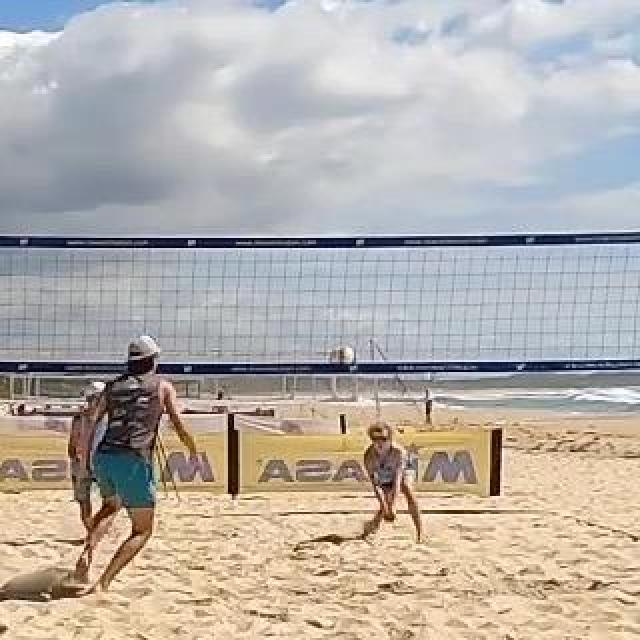volleyball: (329, 344, 359, 372)
